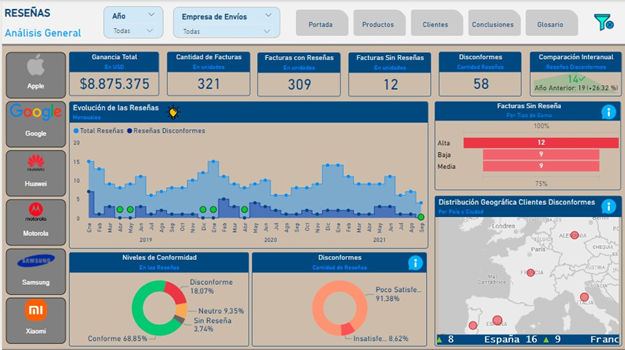

Layout of this report page (visuals, bound fields, positions):
{"tool":"powerbi","page":{"name":"Reseñas","canvas":[1280,720],"ordinal":1},"visuals":[{"type":"card","title":"Ganancia Total","fields":{"Values":["DAX Medidas.Ganancia Total"]},"box":[137.3,106.7,185.1,91],"z":0},{"type":"card","title":"Facturas con Reseñas","fields":{"Values":["DAX Medidas.Total Review"]},"box":[525.1,107.4,170.6,91],"z":1000},{"type":"card","title":"Disconformes","fields":{"Values":["DAX Medidas.Disconformes"]},"box":[897.8,105.8,170.2,91.5],"z":2000},{"type":"slicer","fields":{"Values":["Calendario.Año"]},"box":[208.8,12.9,123,65.8],"z":3000},{"type":"kpi","title":"Comparación Interanual","fields":{"Indicator":["DAX Medidas.Disconformes"],"TrendLine":["Calendario.Año"],"Goal":["DAX Medidas.Disconformes Año Anterior"]},"box":[1084.1,105.8,188.8,91.5],"z":4000},{"type":"areaChart","title":"Evolución de las Reseñas","fields":{"Category":["Calendario.Año","Calendario.Mes Nombre"],"Y":["DAX Medidas.Total Review","DAX Medidas.Disconformes"]},"box":[137.3,208.8,738,303.2],"z":5000},{"type":"donutChart","title":"Niveles de Conformidad","fields":{"Y":["DAX Medidas.Total Facturas"],"Category":["Facturas.Nivel de Conformidad"]},"box":[137.5,518.7,369.9,194.2],"z":6000},{"type":"pageNavigator","box":[603.5,20,584.9,54.3],"z":7000},{"type":"slicer","fields":{"Values":["Empresas Envio.Empresa"]},"box":[351.8,14.3,220.2,64.4],"z":8000},{"type":"ChicletSlicer1448559807354","fields":{"Category":["Marca.Marca Articulo"],"Image":["Marca.Logo"]},"box":[0,98.5,138.8,620.9],"z":9000},{"type":"map","title":"Distribución Geográfica Clientes Disconformes","fields":{"Category":["Pais.País","Ciudad.Ciudad"],"Size":["DAX Medidas.Disconformes"]},"box":[888.1,401.9,384.7,310.3],"z":10000},{"type":"image","box":[1211.4,21.5,50.1,50.1],"z":11000},{"type":"image","box":[331.7,208.3,39.7,43.9],"z":12000},{"type":"card","title":"Facturas Sin Reseñas","fields":{"Values":["DAX Medidas.Ventas Sin Reseñas"]},"box":[711.7,107.7,170.1,91],"z":13000},{"type":"ScrollingTextVisual1448795304508","fields":{"Category":["Pais.País"],"Measure Absolute":["DAX Medidas.Disconformes"],"Measure Deviation":["DAX Medidas.Disconformes Año Anterior"]},"box":[888.1,683.6,383.3,30],"z":14000},{"type":"textbox","box":[0,8.6,183.1,90.1],"z":15000},{"type":"card","title":"Cantidad de Facturas","fields":{"Values":["DAX Medidas.Total Facturas"]},"box":[338.4,107,170.6,91.2],"z":16000},{"type":"funnel","title":"Facturas Sin Reseña","fields":{"Category":["CategoriaArticulo.Categoria Articulo"],"Y":["DAX Medidas.Ventas Sin Reseñas"]},"box":[888.1,208.8,383.3,183.1],"z":17000},{"type":"donutChart","title":"Disconformes","fields":{"Y":["DAX Medidas.Disconformes"],"Category":["Facturas.Tipo Review"]},"box":[513.1,518.7,360,194.2],"z":18000},{"type":"image","box":[823.5,518.7,51,43.9],"z":19000},{"type":"image","box":[1221.7,208.3,49.6,43.9],"z":20000},{"type":"image","box":[1221.7,402.5,49.6,43.9],"z":21000}]}

Visuals, with their boxes in screenshot pixels (x1, y1, x2, y2), scaled from the page's 1280x720 canvas onto the 625x350 screenshot:
"Ganancia Total" card: <bbox>67, 52, 157, 96</bbox>
"Facturas con Reseñas" card: <bbox>256, 52, 340, 96</bbox>
"Disconformes" card: <bbox>438, 51, 521, 96</bbox>
slicer - Calendario.Año: <bbox>102, 6, 162, 38</bbox>
"Comparación Interanual" kpi: <bbox>529, 51, 622, 96</bbox>
"Evolución de las Reseñas" areaChart: <bbox>67, 102, 427, 249</bbox>
"Niveles de Conformidad" donutChart: <bbox>67, 252, 248, 347</bbox>
pageNavigator: <bbox>295, 10, 580, 36</bbox>
slicer - Empresas Envio.Empresa: <bbox>172, 7, 279, 38</bbox>
ChicletSlicer1448559807354 - Marca.Marca Articulo x Marca.Logo: <bbox>0, 48, 68, 349</bbox>
"Distribución Geográfica Clientes Disconformes" map: <bbox>434, 195, 621, 346</bbox>
image: <bbox>592, 10, 616, 35</bbox>
image: <bbox>162, 101, 181, 123</bbox>
"Facturas Sin Reseñas" card: <bbox>348, 52, 431, 97</bbox>
ScrollingTextVisual1448795304508 - Pais.País x DAX Medidas.Disconformes: <bbox>434, 332, 621, 347</bbox>
textbox: <bbox>0, 4, 89, 48</bbox>
"Cantidad de Facturas" card: <bbox>165, 52, 249, 96</bbox>
"Facturas Sin Reseña" funnel: <bbox>434, 102, 621, 191</bbox>
"Disconformes" donutChart: <bbox>251, 252, 426, 347</bbox>
image: <bbox>402, 252, 427, 273</bbox>
image: <bbox>597, 101, 621, 123</bbox>
image: <bbox>597, 196, 621, 217</bbox>
